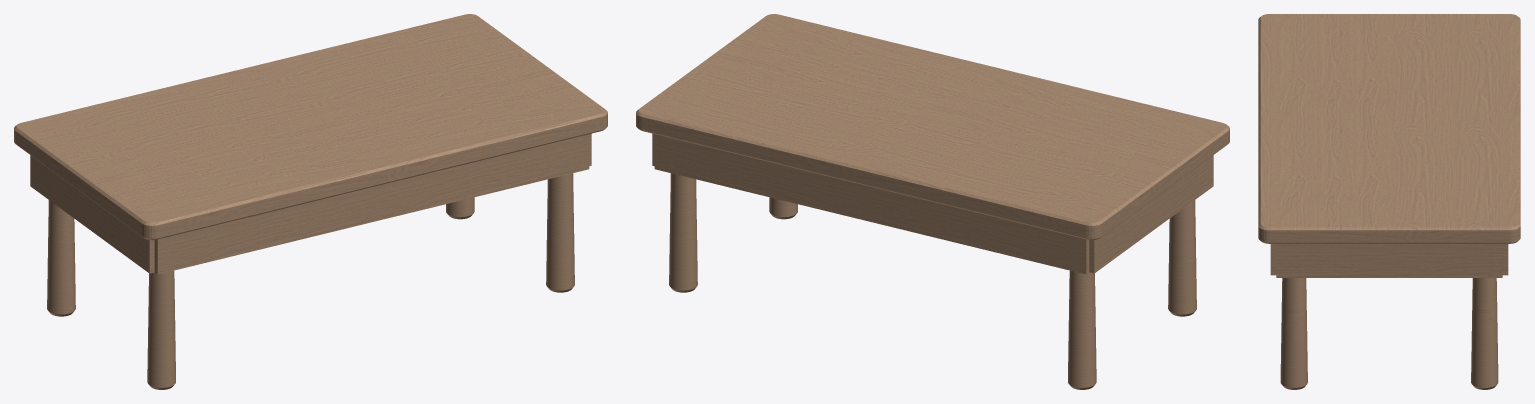
File: furn_com_rm_table_04.dae
The picture shows the model from 3 angles, left to right: view 1: azimuth 30°, elevation 25°; view 2: azimuth 150°, elevation 25°; view 3: azimuth 270°, elevation 25°; orthographic projection. The views are drawn at different scales.
Parts seen in each view (by area): view 1: oak; view 2: oak; view 3: oak.
Boxes of the visible parts, <box> form: oak: <box>14,14,607,389</box>; oak: <box>636,14,1229,389</box>; oak: <box>1258,14,1520,389</box>.
Size of what is drawn, in the model's own units: 156 by 80.28 by 58.1.
